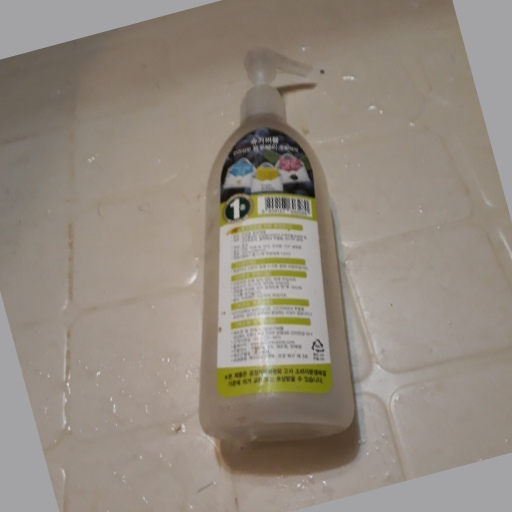Plastic_3: (195, 46, 357, 451)
